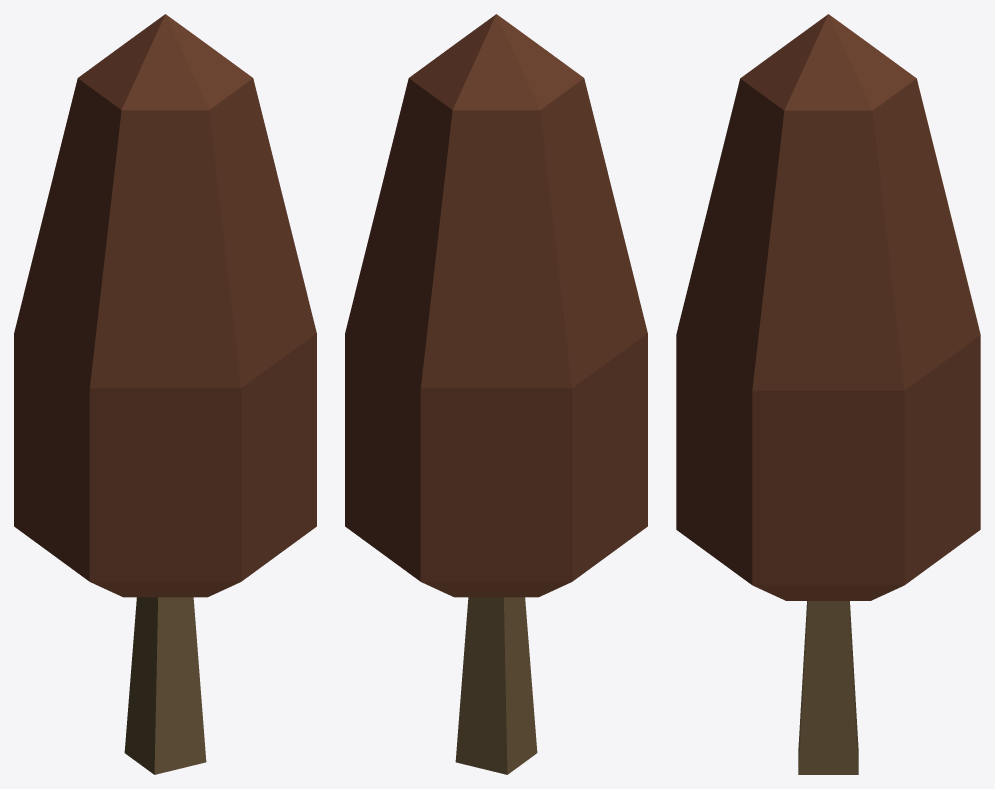
File: Oak_Fall_01.obj
3 renders of one model, left to right at view 1: azimuth 30°, elevation 25°; view 2: azimuth 150°, elevation 25°; view 3: azimuth 270°, elevation 25°, orthographic.
Visible parts, largest first — view 1: Mesh1_Oak_Fall_Model; view 2: Mesh1_Oak_Fall_Model; view 3: Mesh1_Oak_Fall_Model.
Part boxes in pixels (x1,y1,x2,y2): Mesh1_Oak_Fall_Model: [14, 14, 316, 774]; Mesh1_Oak_Fall_Model: [345, 14, 647, 774]; Mesh1_Oak_Fall_Model: [676, 14, 980, 774].
Size of the model in its own units: 1.58 by 4.93 by 1.82.
